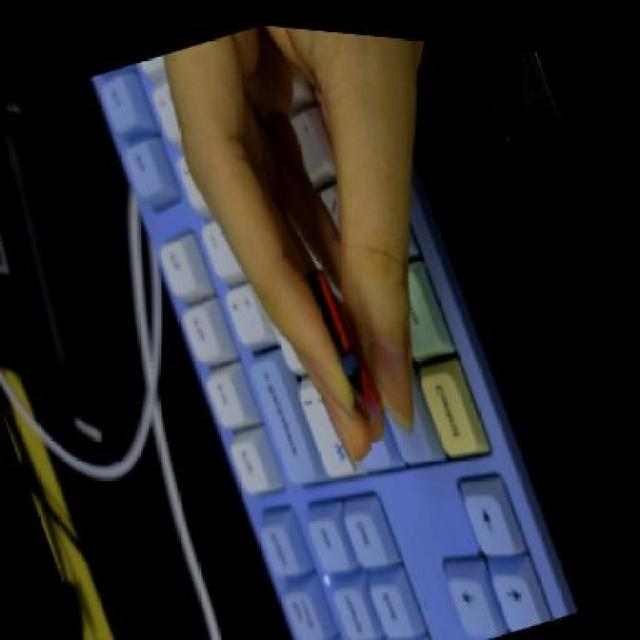Flashdisk: (299, 251, 395, 424)
